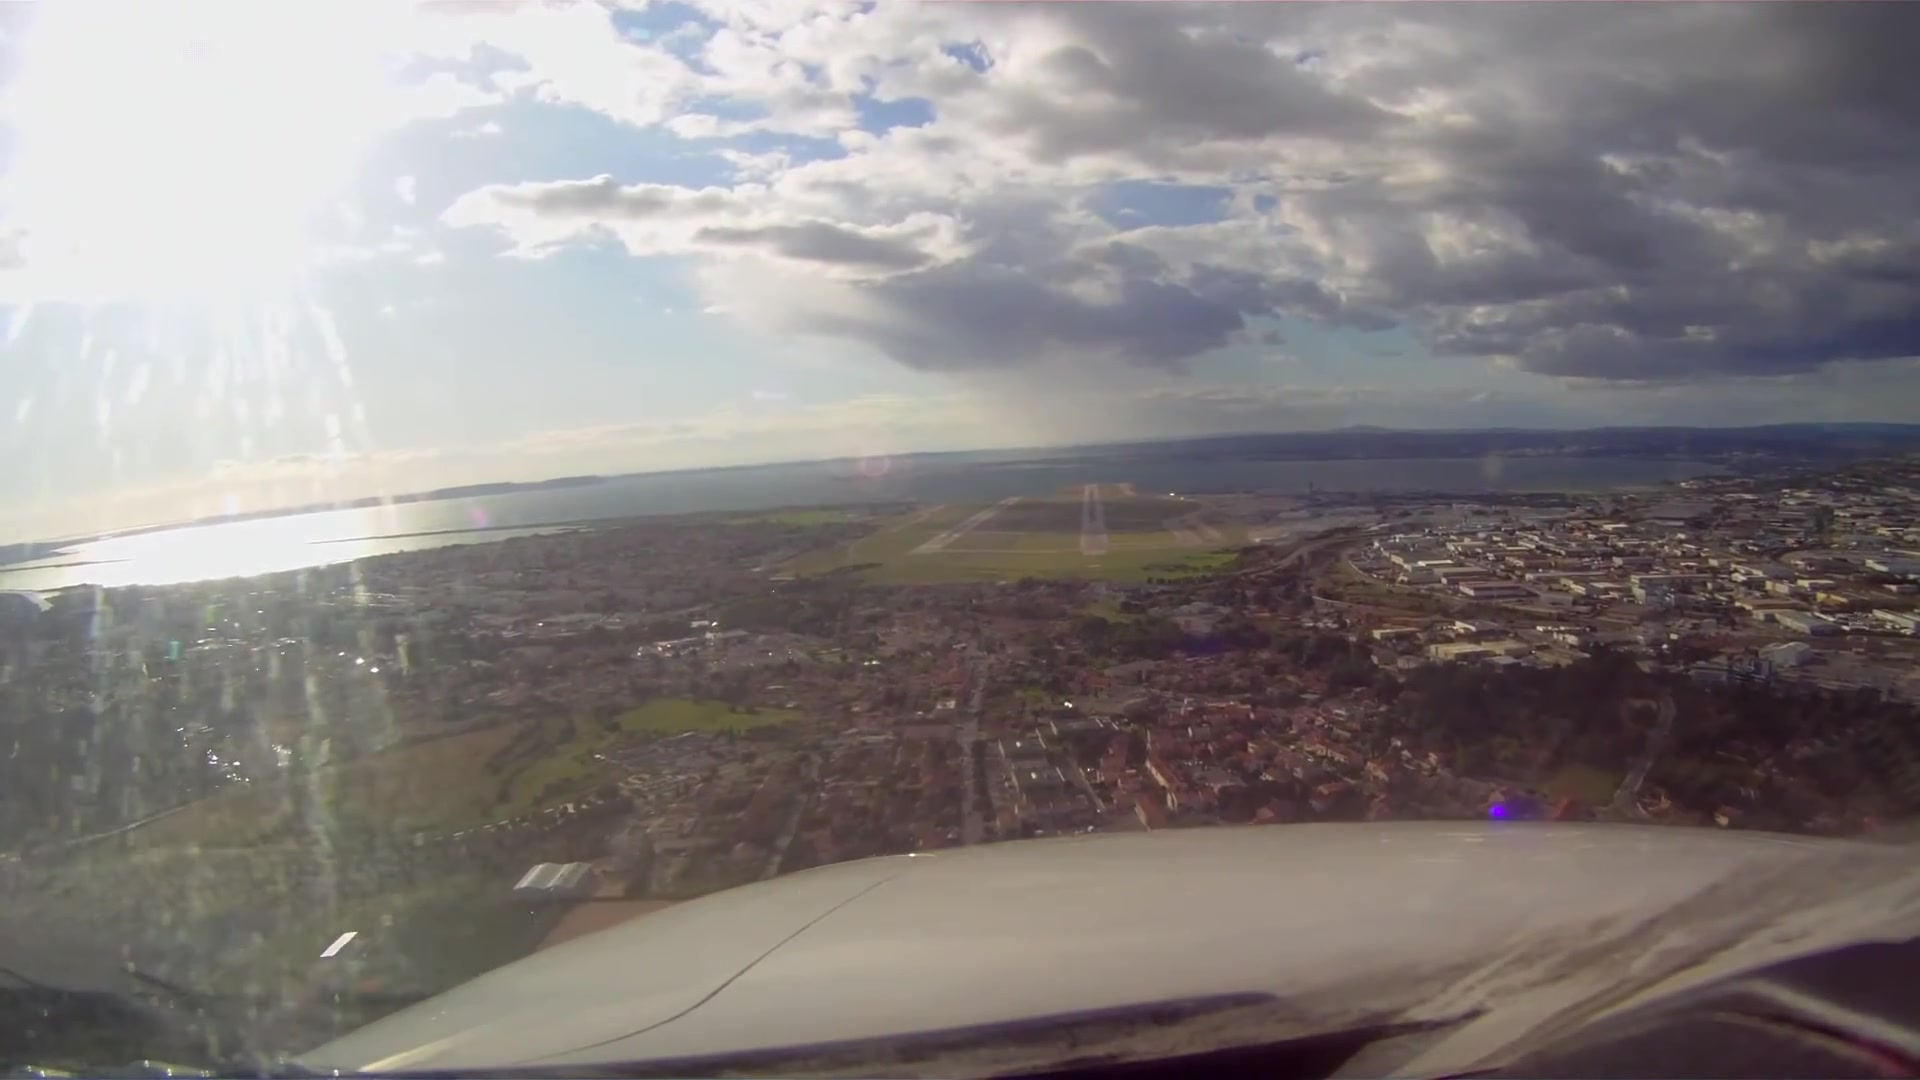runway: (906, 496, 1025, 556), (1077, 483, 1113, 556)
